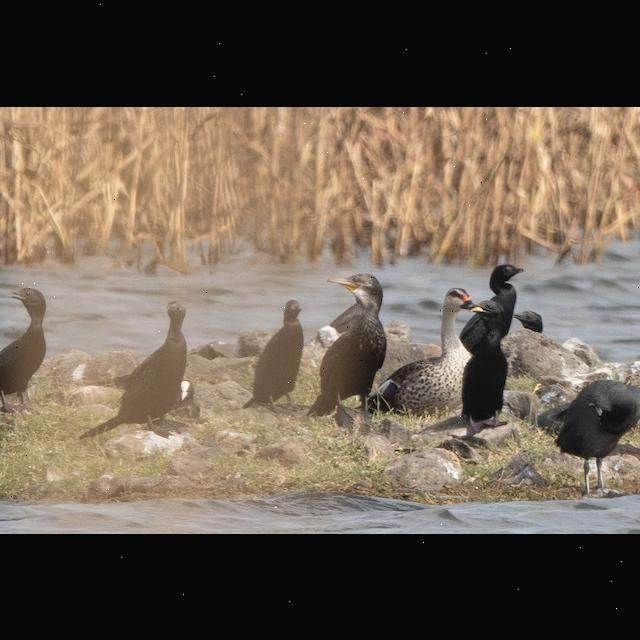cormorant: (82, 297, 190, 439), (310, 268, 388, 416), (548, 376, 640, 496), (243, 294, 304, 414), (0, 282, 50, 411)
